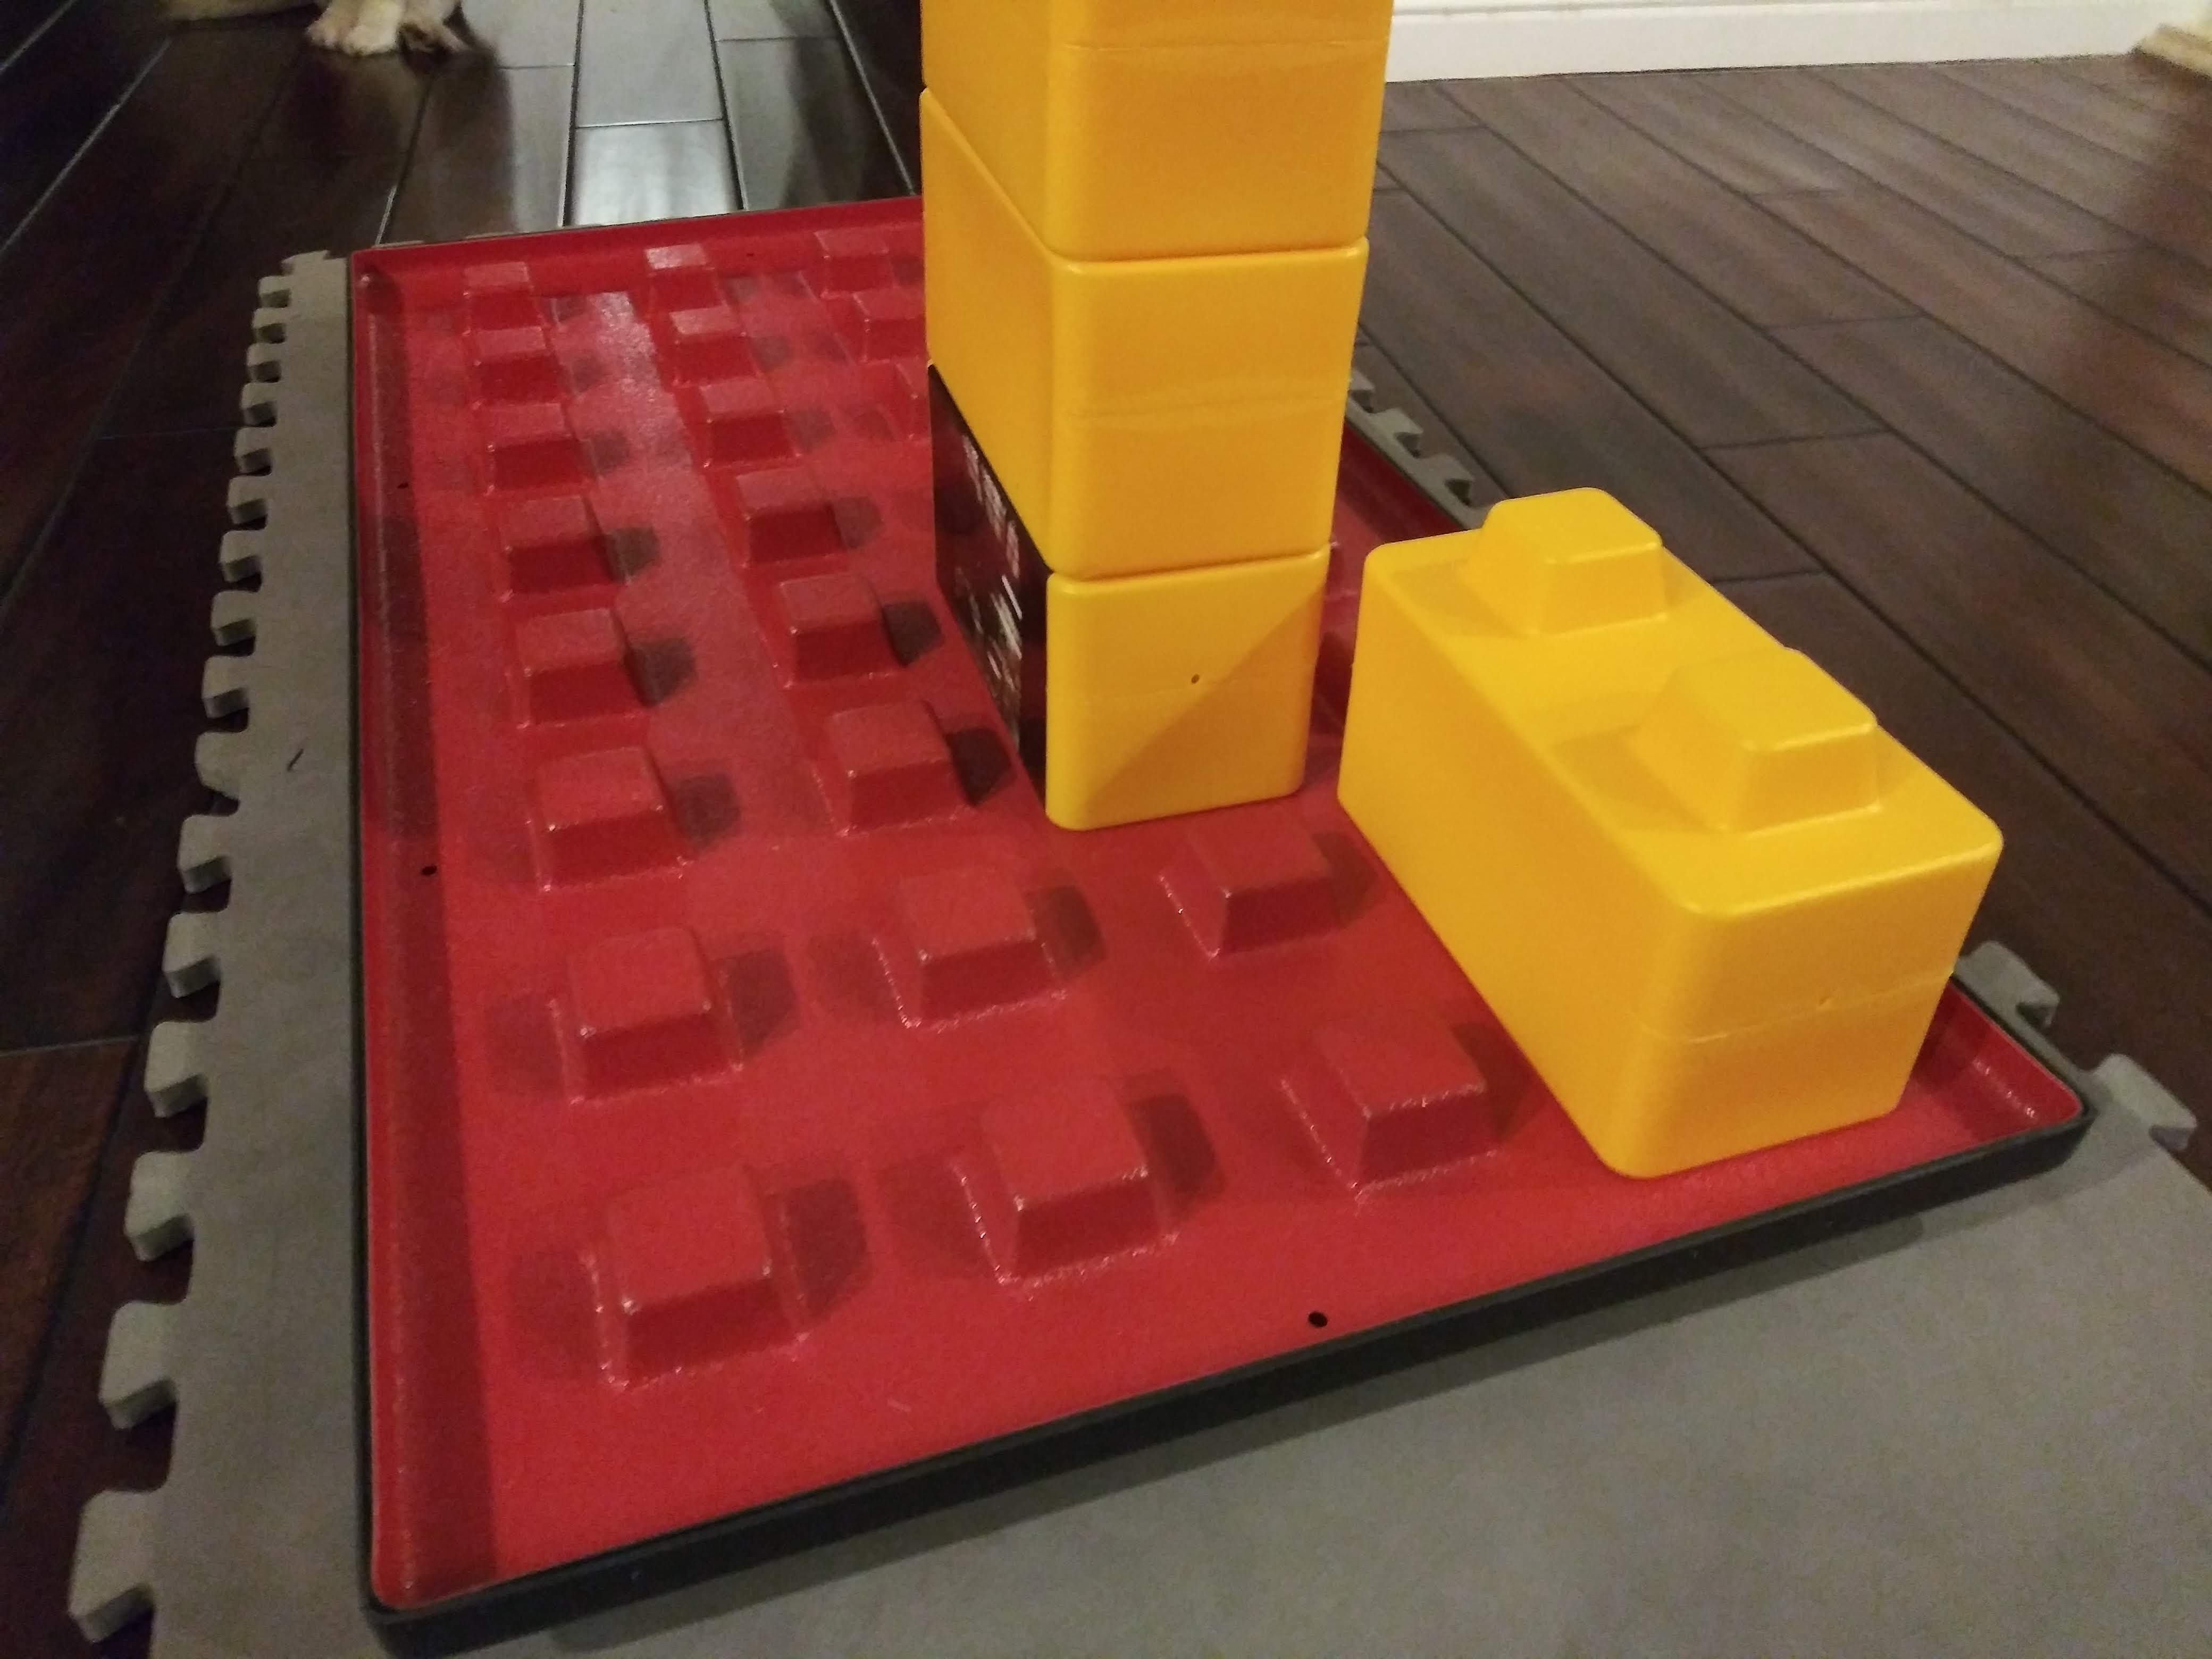red foundation: (315, 199, 1959, 1361)
